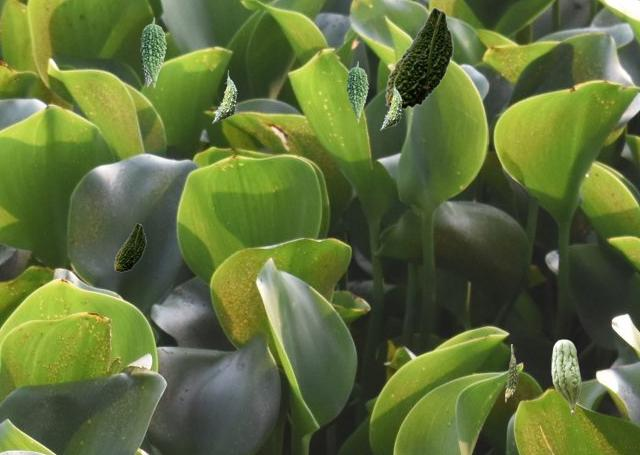ampalaya: (385, 7, 453, 109), (551, 339, 580, 414), (140, 17, 165, 87), (114, 223, 145, 271), (346, 61, 367, 122), (212, 70, 236, 122), (380, 81, 401, 129), (505, 344, 517, 401), (141, 53, 151, 86)
